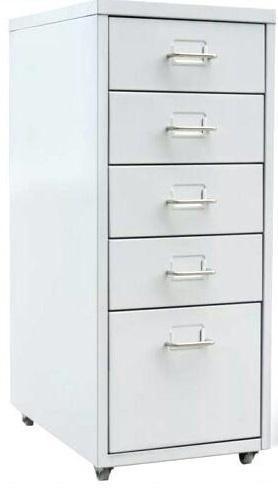Filing Cabinet: (96, 0, 274, 481)
